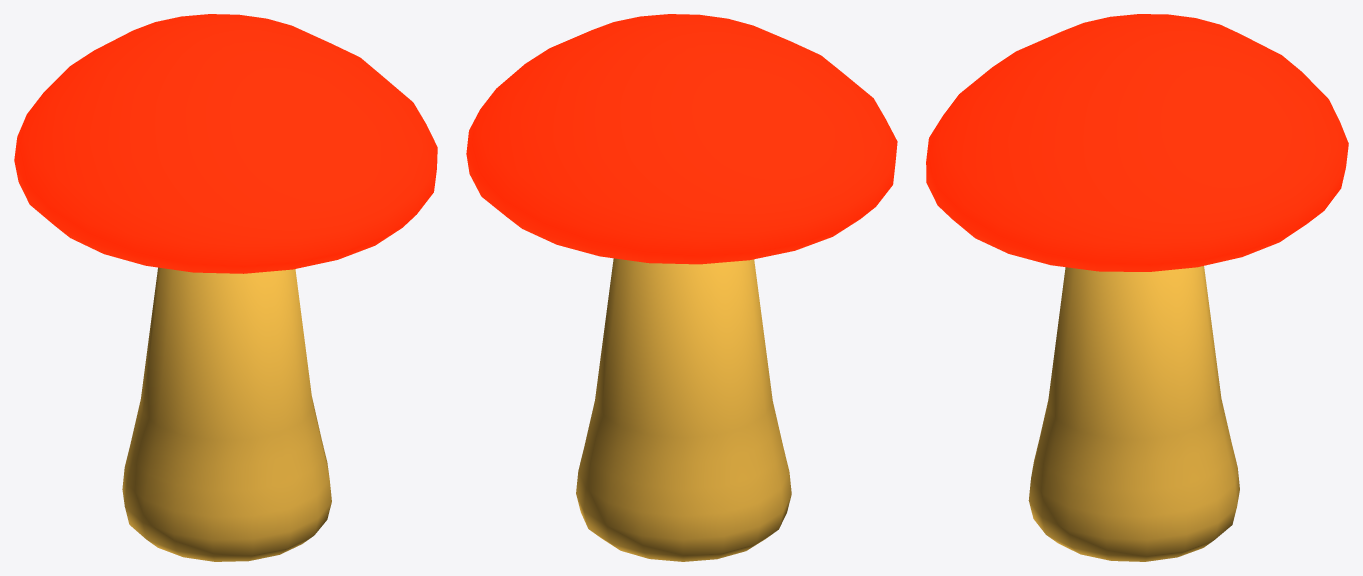
The model's file is Mchair_l.fbx.
3 renders of one model, left to right at view 1: azimuth 30°, elevation 25°; view 2: azimuth 150°, elevation 25°; view 3: azimuth 270°, elevation 25°, orthographic.
Parts seen in each view (by area): view 1: Circle.128; view 2: Circle.128; view 3: Circle.128.
Part boxes in pixels (bbox=[...]): Circle.128: bbox=[14, 14, 437, 561]; Circle.128: bbox=[466, 14, 897, 561]; Circle.128: bbox=[926, 14, 1348, 561].
Size of the model in its own units: 77.05 by 76.31 by 98.83.
